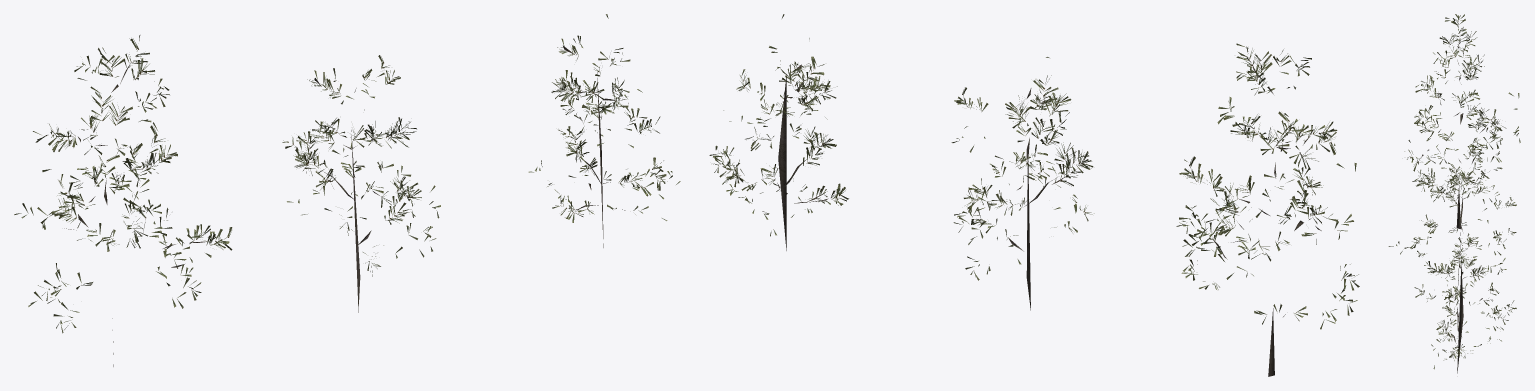
The model's file is pine_sapling_small_far.glb.
3 views of the same model, side by side, from view 1: azimuth 30°, elevation 25°; view 2: azimuth 150°, elevation 25°; view 3: azimuth 270°, elevation 25° (orthographic). The views are drawn at different scales.
Visible parts, largest first — view 1: pine_sapling_small_a, pine_sapling_small_b, pine_sapling_small_c; view 2: pine_sapling_small_a, pine_sapling_small_b, pine_sapling_small_c; view 3: pine_sapling_small_a, pine_sapling_small_c, pine_sapling_small_b.
Part boxes in pixels (left/top/right/bottom): pine_sapling_small_a: left=14, top=35, right=232, bottom=366; pine_sapling_small_b: left=282, top=55, right=440, bottom=312; pine_sapling_small_c: left=528, top=14, right=680, bottom=247; pine_sapling_small_a: left=1176, top=43, right=1359, bottom=376; pine_sapling_small_b: left=951, top=57, right=1094, bottom=310; pine_sapling_small_c: left=709, top=14, right=848, bottom=250; pine_sapling_small_a: left=1404, top=14, right=1520, bottom=228; pine_sapling_small_c: left=1414, top=229, right=1516, bottom=373; pine_sapling_small_b: left=1388, top=144, right=1516, bottom=289.
Size of the model in its own units: 2.61 by 1.29 by 0.7383.
Materials: 2 (2 with a texture image).
